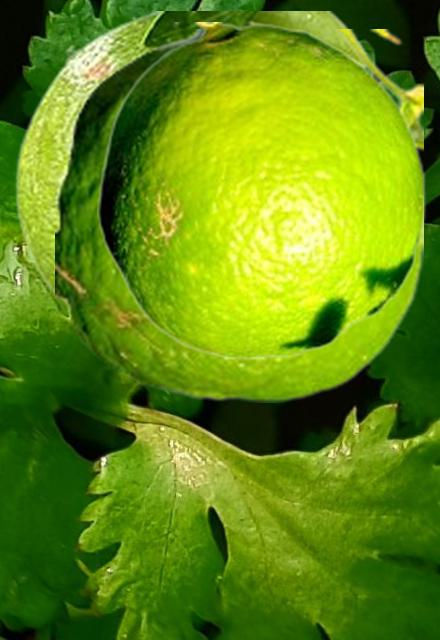dalandan: (55, 29, 422, 401), (97, 22, 425, 359), (14, 11, 367, 310)
